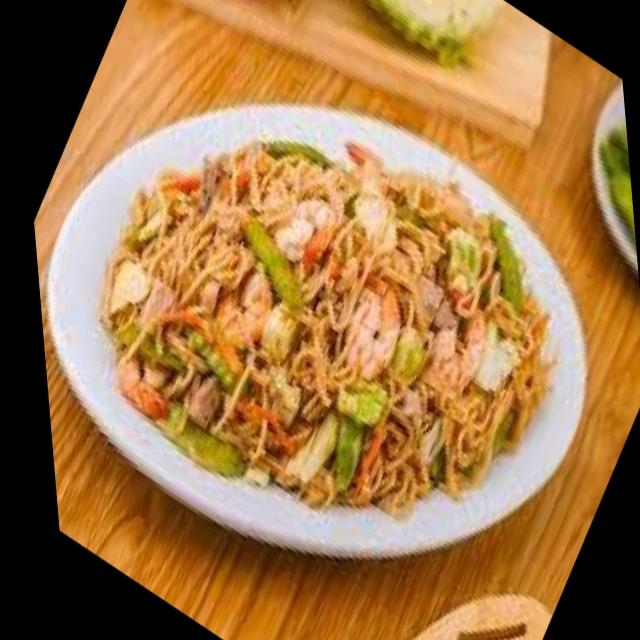pancit bihon: (115, 159, 543, 501)
